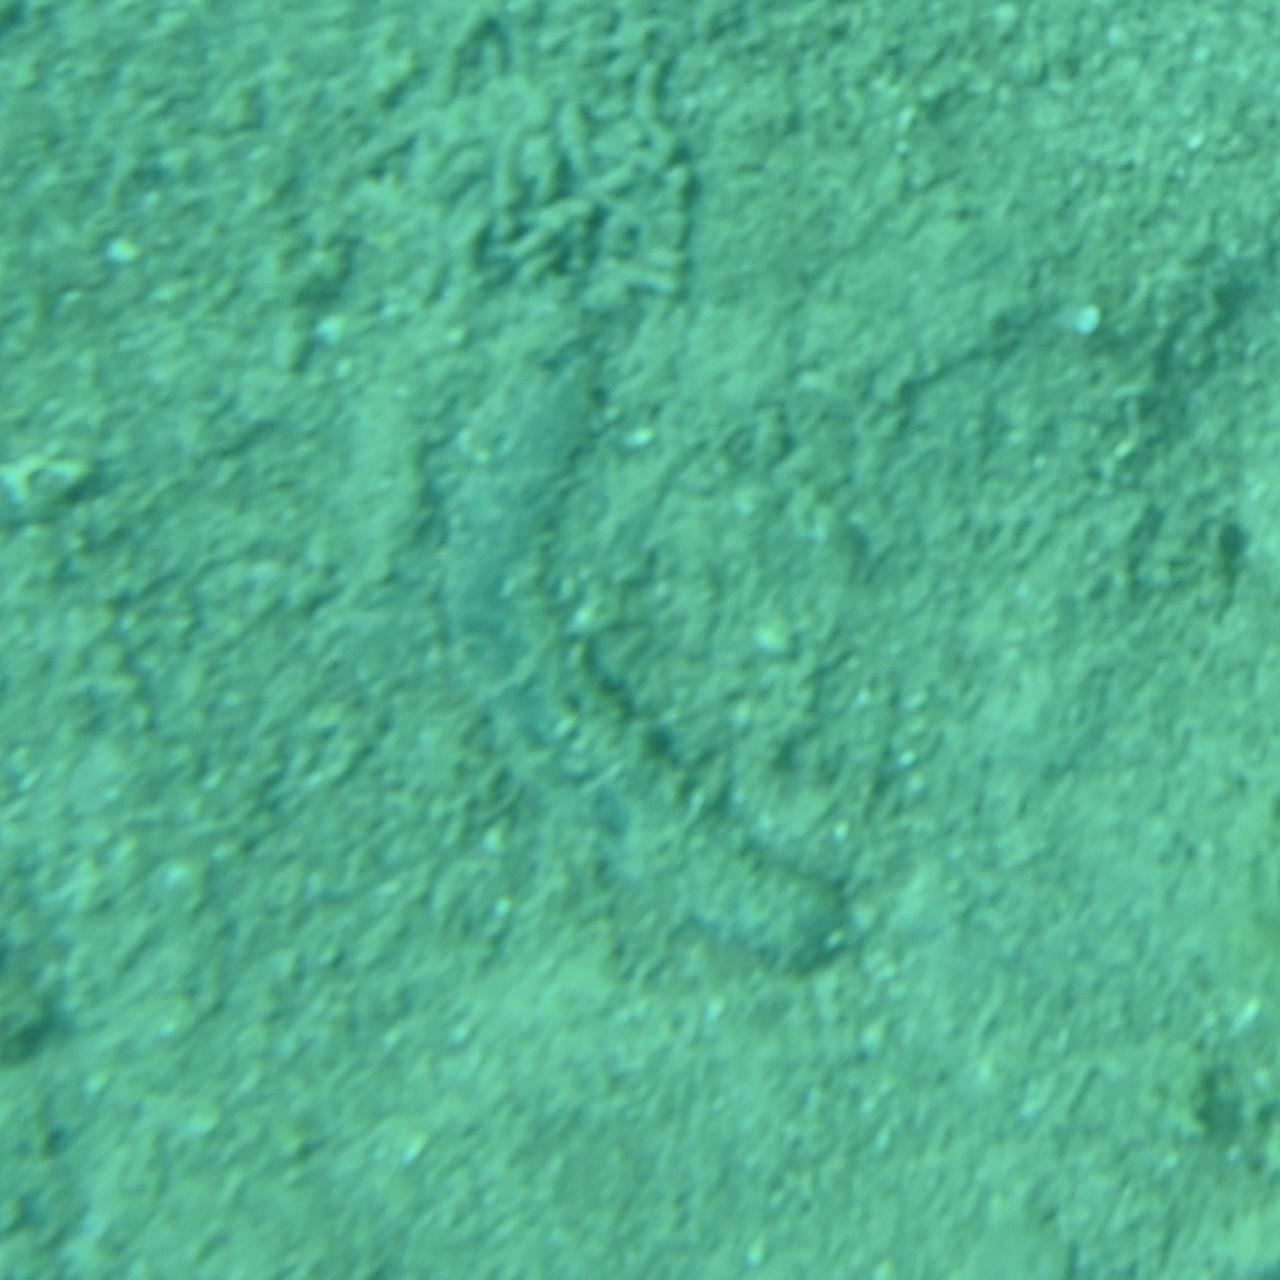Holothuria tubulosa: (428, 290, 852, 990)
